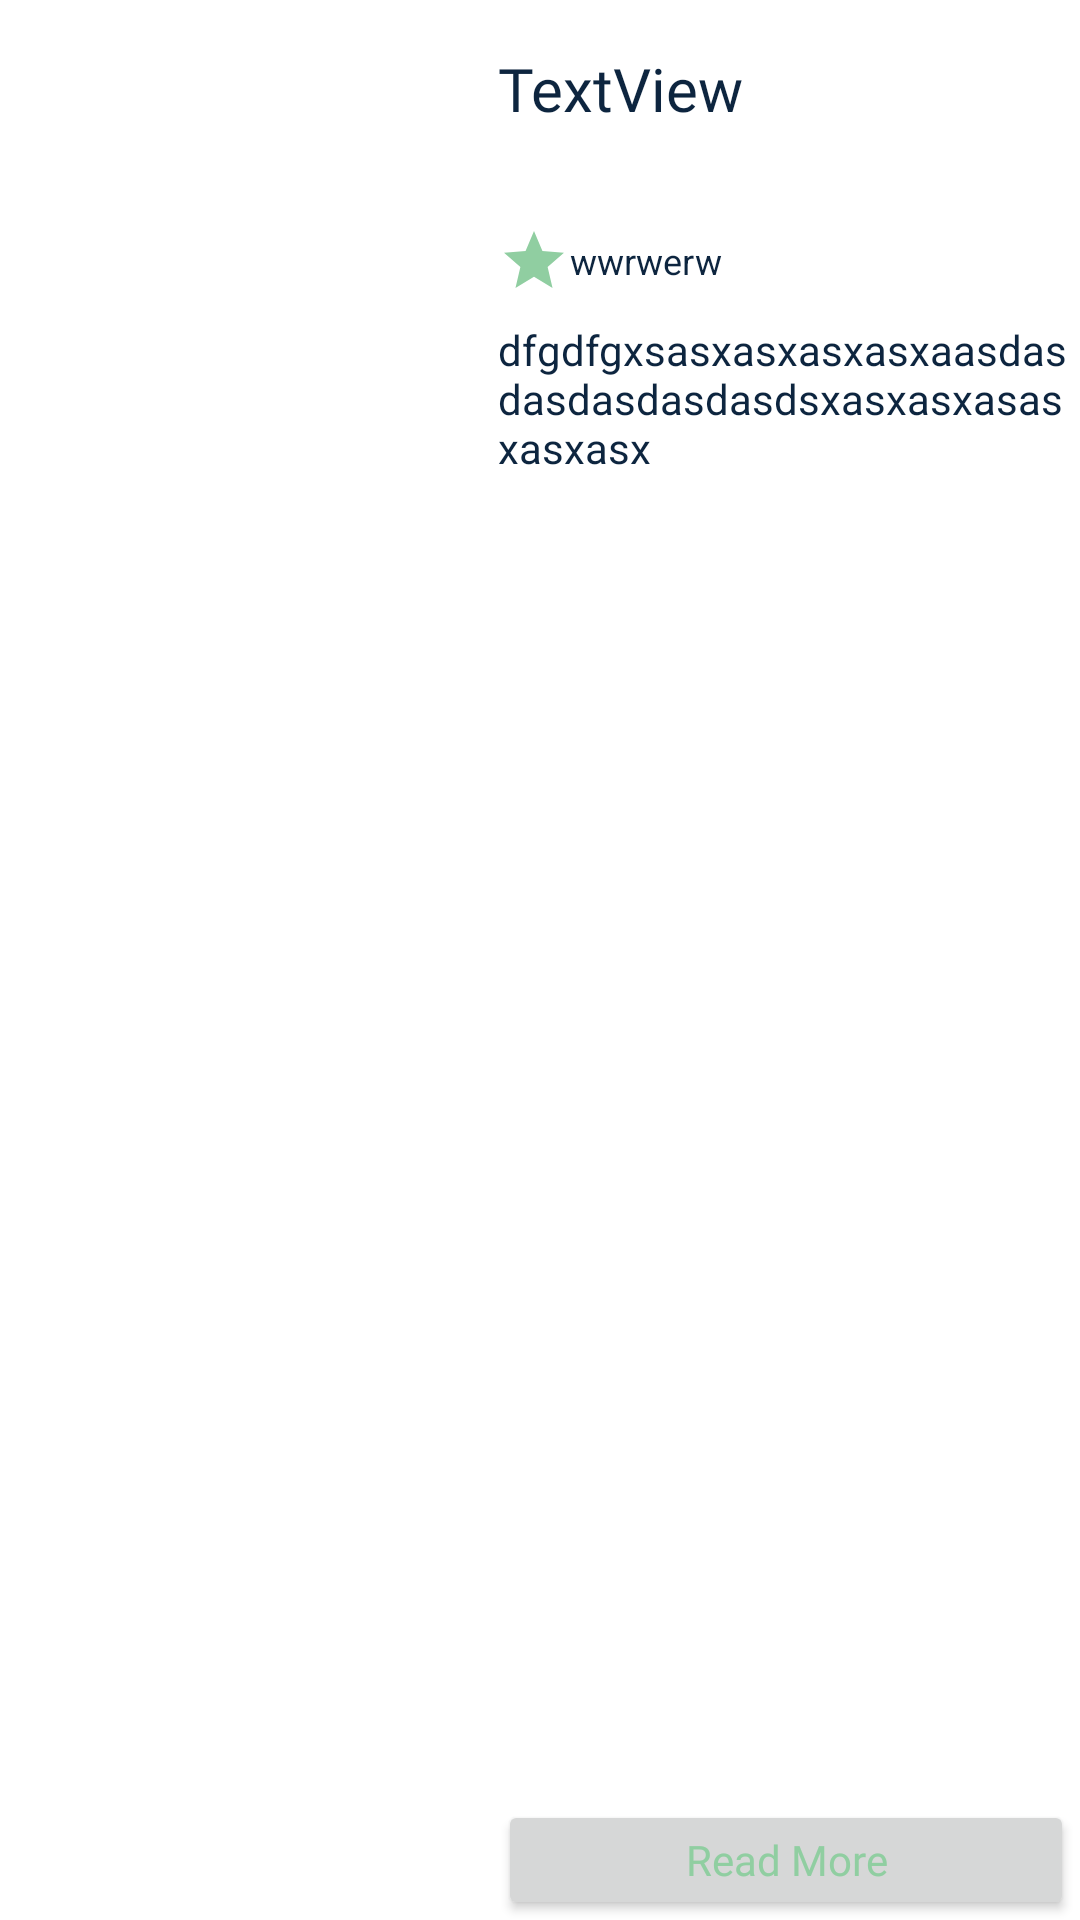

Icon click points for this 1080w x 1920h phone screenshot, format (x=x, y=y):
star: (x=534, y=260)
